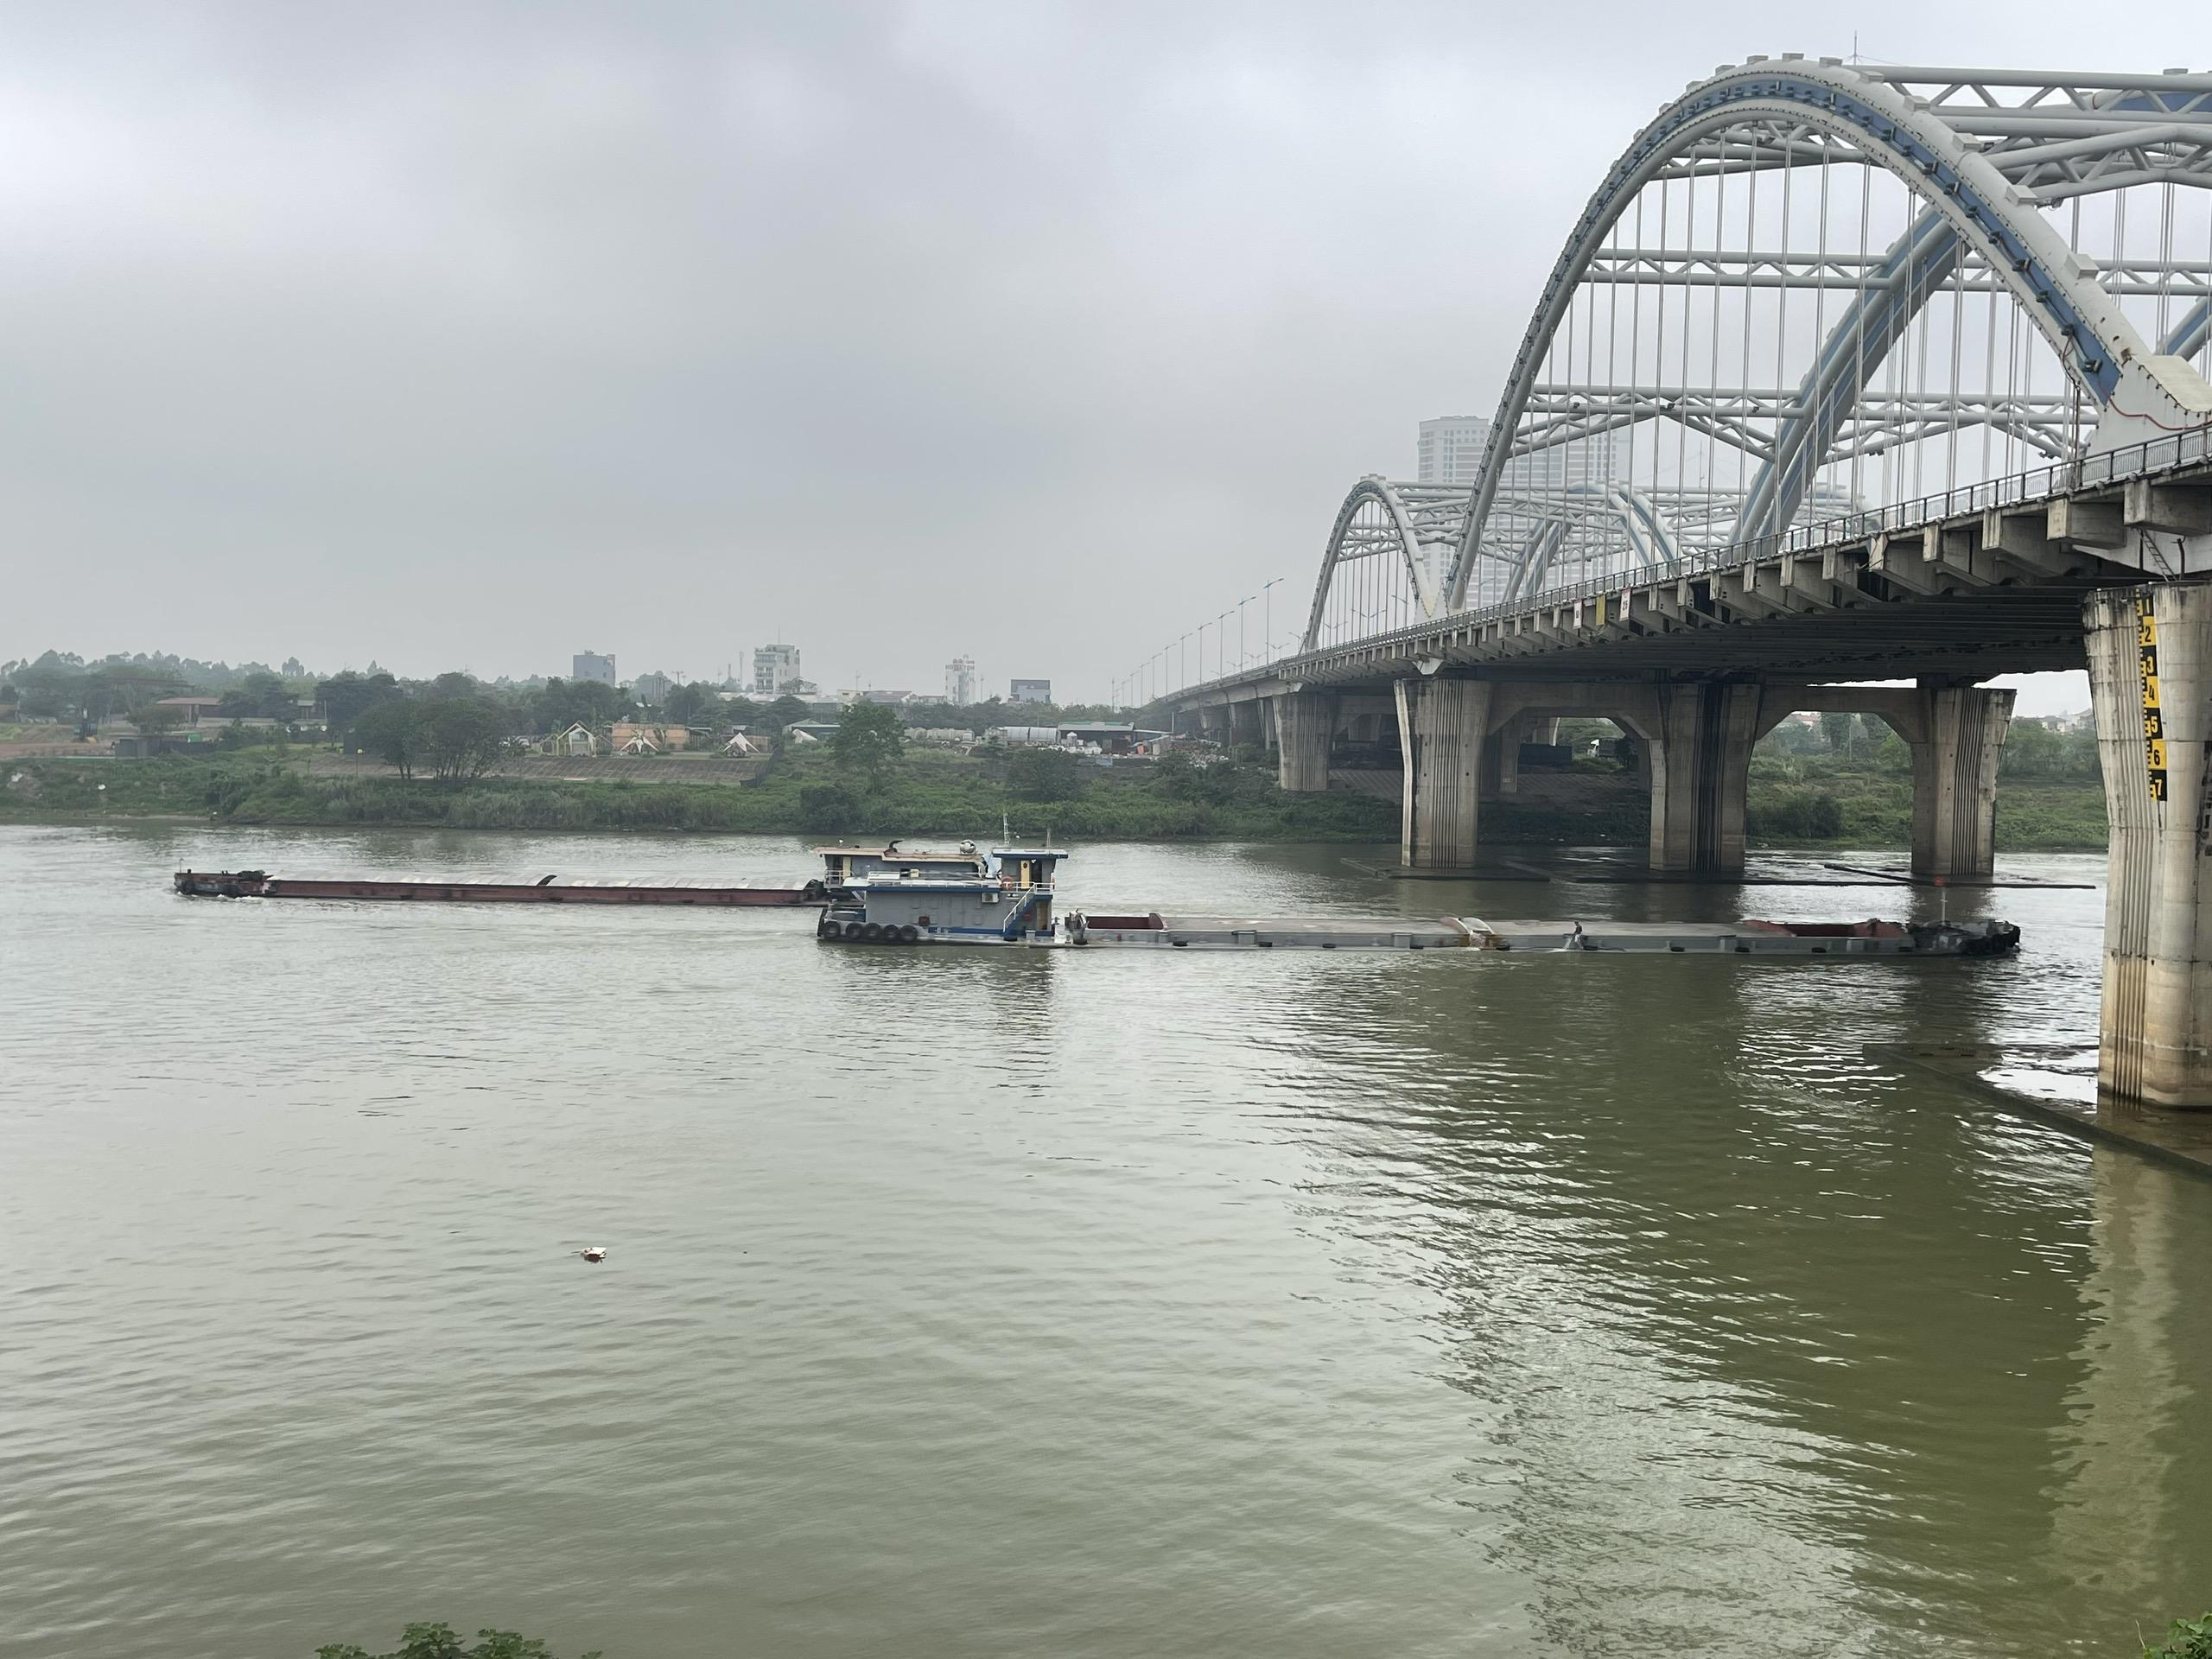Ship: (813, 863, 2017, 965), (169, 854, 812, 913)
